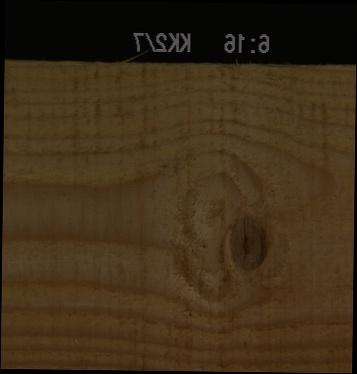sound_knot: (227, 213, 270, 272)
